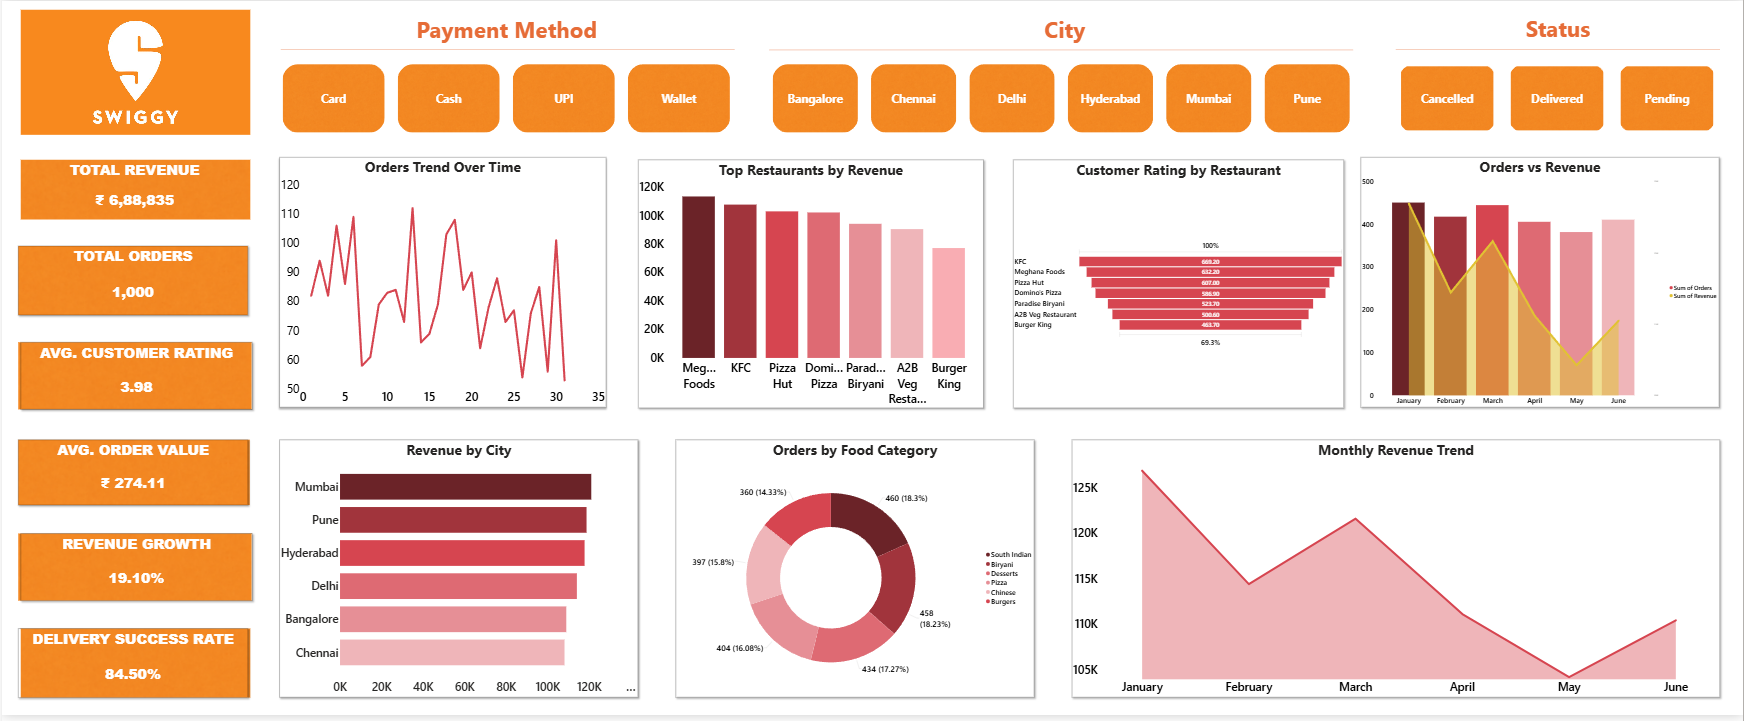

What the dashboard file says about the page in this screenshot:
{"tool":"powerbi","page":{"name":"Page 1","canvas":[9999,4100],"ordinal":0},"visuals":[{"type":"image","box":[107.2,53.6,1318.5,718.2],"z":0},{"type":"image","box":[96.5,1404.2,1318.5,396.6],"z":1000},{"type":"image","box":[107.2,911.1,1318.5,343],"z":2000},{"type":"image","box":[96.5,1961.6,1339.9,385.9],"z":3000},{"type":"image","box":[96.5,2519.1,1329.2,375.2],"z":4000},{"type":"image","box":[96.5,3055,1339.9,385.9],"z":5000},{"type":"card","title":"TOTAL ORDERS","fields":{"Values":["CountNonNull(swiggy Dataset.Order_ID)"]},"box":[96.5,1404.2,1318.5,396.6],"z":6000},{"type":"card","title":"TOTAL REVENUE","fields":{"Values":["Sum(swiggy Dataset.Revenue)"]},"box":[107.2,911.1,1307.8,343],"z":7000},{"type":"card","title":"AVG. CUSTOMER RATING","fields":{"Values":["swiggy Dataset.Avg Customer Rating"]},"box":[107.2,1961.6,1329.2,385.9],"z":8000},{"type":"image","box":[107.2,3601.7,1318.5,396.6],"z":9000},{"type":"card","title":"AVG. ORDER VALUE","fields":{"Values":["swiggy Dataset.Avg Order Value"]},"box":[96.5,2519.1,1318.5,375.2],"z":10000},{"type":"card","title":"REVENUE GROWTH","fields":{"Values":["swiggy Dataset.Revenue Growth %"]},"box":[107.2,3055,1329.2,385.9],"z":11000},{"type":"card","title":"DELIVERY SUCCESS RATE","fields":{"Values":["swiggy Dataset.Delivery Success Rate %"]},"box":[96.5,3601.7,1318.5,396.6],"z":12000},{"type":"lineChart","title":"Orders Trend Over Time","fields":{"Category":["swiggy Dataset.Date.Variation.Date Hierarchy.Day"],"Y":["Sum(swiggy Dataset.Orders)"]},"box":[1597.2,900.4,1875.9,1436.4],"z":13000},{"type":"clusteredBarChart","title":"Revenue by City","fields":{"Category":["swiggy Dataset.City"],"Y":["Sum(swiggy Dataset.Revenue)"]},"box":[1597.2,2519.1,2058.1,1479.3],"z":14000},{"type":"columnChart","title":"Top Restaurants by Revenue","fields":{"Category":["swiggy Dataset.Restaurant"],"Y":["Sum(swiggy Dataset.Revenue)"]},"box":[3655.3,911.1,1983.1,1425.7],"z":15000},{"type":"donutChart","title":"Orders by Food Category","fields":{"Category":["swiggy Dataset.Category"],"Y":["Sum(swiggy Dataset.Orders)"]},"box":[3869.7,2519.1,2058.1,1479.3],"z":16000},{"type":"funnel","title":"Customer Rating by Restaurant","fields":{"Category":["swiggy Dataset.Restaurant"],"Y":["Sum(swiggy Dataset.Customer_Rating)"]},"box":[5809.9,911.1,1897.3,1425.7],"z":17000},{"type":"lineClusteredColumnComboChart","title":"Orders vs Revenue","fields":{"Y":["Sum(swiggy Dataset.Orders)"],"Y2":["Sum(swiggy Dataset.Revenue)"],"Category":["swiggy Dataset.Date.Variation.Date Hierarchy.Month"]},"box":[7803.7,900.4,2058.1,1436.4],"z":18000},{"type":"areaChart","title":"Monthly Revenue Trend","fields":{"Category":["swiggy Dataset.Date.Variation.Date Hierarchy.Month"],"Y":["Sum(swiggy Dataset.Revenue)"]},"box":[6142.2,2519.1,3719.6,1479.3],"z":19000},{"type":"advancedSlicerVisual","fields":{"Values":["swiggy Dataset.Status"]},"box":[8007.4,343,1854.5,428.8],"z":20000},{"type":"textbox","box":[8275.4,64.3,1318.5,203.7],"z":21000},{"type":"advancedSlicerVisual","fields":{"Values":["swiggy Dataset.City"]},"box":[4405.7,343,3355.2,428.8],"z":22000},{"type":"textbox","box":[4502.1,75,3205.1,192.9],"z":23000},{"type":"advancedSlicerVisual","fields":{"Values":["swiggy Dataset.Payment_Method"]},"box":[1597.2,343,2604.8,428.8],"z":24000},{"type":"textbox","box":[2240.3,75,1318.5,203.7],"z":25000},{"type":"shape","box":[1598.7,199.8,2606.9,154.4],"z":26000},{"type":"shape","box":[8002.5,199.8,1862.1,154.4],"z":27000},{"type":"shape","box":[4405.5,208.9,3351.8,145.3],"z":28000}]}

Visuals, with their boxes in screenshot pixels (x1, y1, x2, y2), scaled from the page's 9999x4100 canvas onto the 1746x721 screenshot:
image: (19,9,249,136)
image: (17,247,247,317)
image: (19,160,249,221)
image: (17,345,251,413)
image: (17,443,249,509)
image: (17,537,251,605)
"TOTAL ORDERS" card: (17,247,247,317)
"TOTAL REVENUE" card: (19,160,247,221)
"AVG. CUSTOMER RATING" card: (19,345,251,413)
image: (19,633,249,703)
"AVG. ORDER VALUE" card: (17,443,247,509)
"REVENUE GROWTH" card: (19,537,251,605)
"DELIVERY SUCCESS RATE" card: (17,633,247,703)
"Orders Trend Over Time" lineChart: (279,158,606,411)
"Revenue by City" clusteredBarChart: (279,443,638,703)
"Top Restaurants by Revenue" columnChart: (638,160,985,411)
"Orders by Food Category" donutChart: (676,443,1035,703)
"Customer Rating by Restaurant" funnel: (1015,160,1346,411)
"Orders vs Revenue" lineClusteredColumnComboChart: (1363,158,1722,411)
"Monthly Revenue Trend" areaChart: (1073,443,1722,703)
advancedSlicerVisual - swiggy Dataset.Status: (1398,60,1722,136)
textbox: (1445,11,1675,47)
advancedSlicerVisual - swiggy Dataset.City: (769,60,1355,136)
textbox: (786,13,1346,47)
advancedSlicerVisual - swiggy Dataset.Payment_Method: (279,60,734,136)
textbox: (391,13,621,49)
shape: (279,35,734,62)
shape: (1397,35,1723,62)
shape: (769,37,1355,62)
